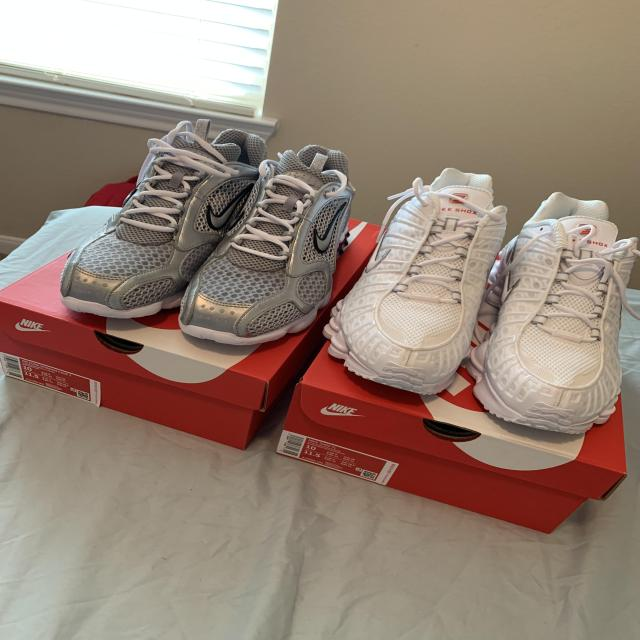shoe: (328, 170, 506, 381), (485, 185, 633, 436), (62, 120, 236, 322), (180, 148, 362, 340)
